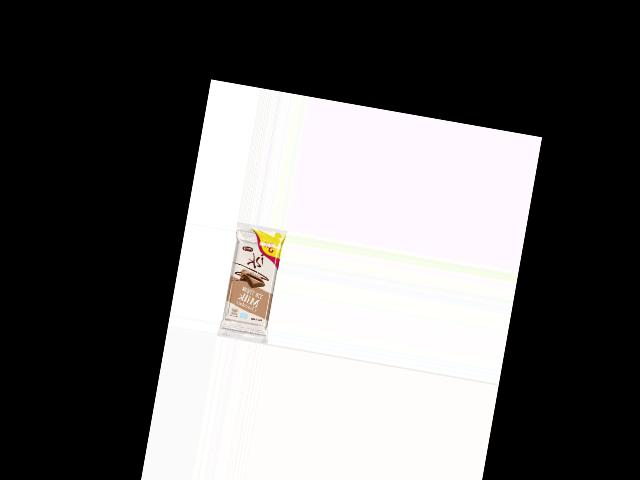chocolate: (217, 221, 287, 334)
